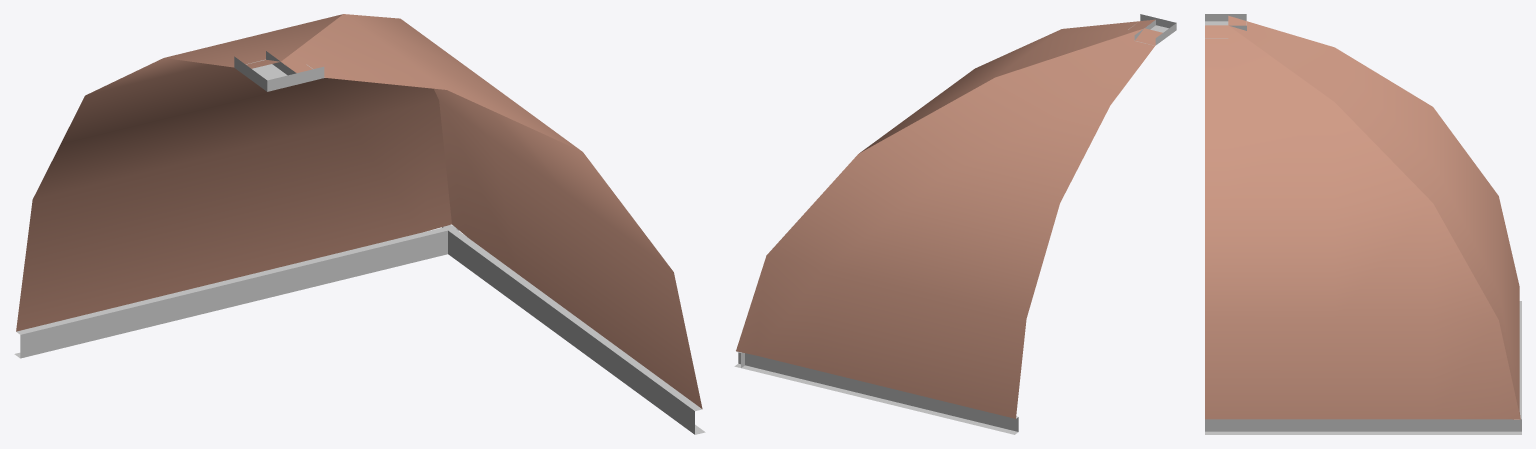
File: CurvedCeilingCorner_INT.fbx
3 views of the same model, side by side, from view 1: azimuth 30°, elevation 25°; view 2: azimuth 150°, elevation 25°; view 3: azimuth 270°, elevation 25° (orthographic). The views are drawn at different scales.
Parts seen in each view (by area): view 1: CurvedCeilingCorner_INT; view 2: CurvedCeilingCorner_INT; view 3: CurvedCeilingCorner_INT.
Part boxes in pixels (x1,y1,x2,y2): CurvedCeilingCorner_INT: (14, 14, 705, 434); CurvedCeilingCorner_INT: (734, 14, 1176, 434); CurvedCeilingCorner_INT: (1205, 14, 1521, 434).
Size of the model in its own units: 200 by 200 by 200.
